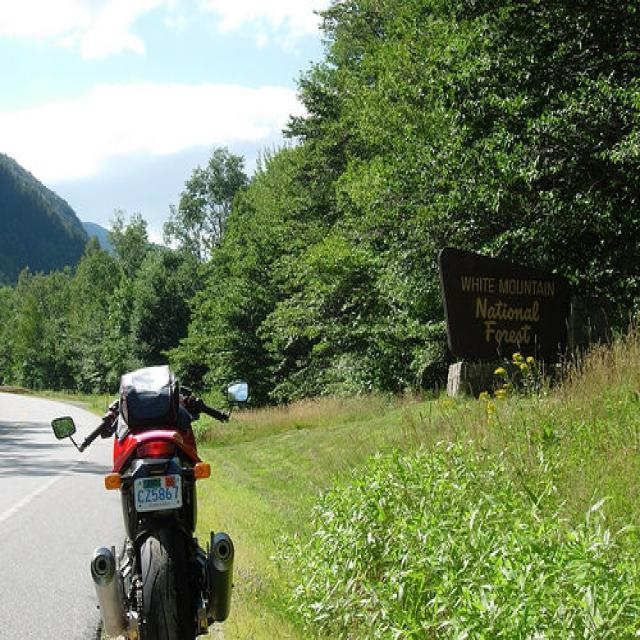motor: (47, 361, 250, 633)
